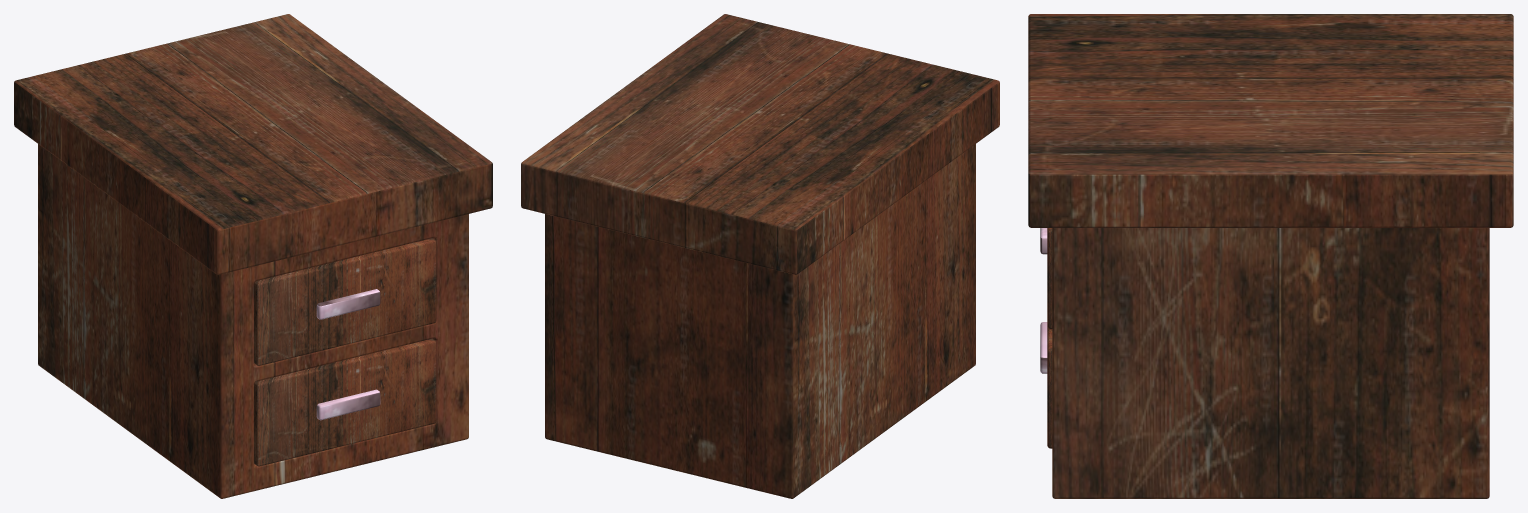
The model's file is Drawer.glb.
The picture shows the model from 3 angles, left to right: view 1: azimuth 30°, elevation 25°; view 2: azimuth 150°, elevation 25°; view 3: azimuth 270°, elevation 25°; orthographic projection. The views are drawn at different scales.
Parts seen in each view (by area): view 1: Table.001, Table.002, Table.006, Table.005, Table.004; view 2: Table.001; view 3: Table.001, Table.006, Table.002.
Boxes of the visible parts, x1=… form: Table.001: x1=14, y1=14, x2=492, y2=498; Table.002: x1=254, y1=238, x2=436, y2=365; Table.006: x1=254, y1=338, x2=436, y2=466; Table.005: x1=316, y1=389, x2=380, y2=420; Table.004: x1=316, y1=289, x2=380, y2=319; Table.001: x1=521, y1=14, x2=999, y2=498; Table.001: x1=1028, y1=14, x2=1513, y2=498; Table.006: x1=1047, y1=326, x2=1052, y2=448; Table.002: x1=1047, y1=228, x2=1052, y2=328.
Size of the model in its own units: 1.34 by 1.3 by 1.71.
Materials: 2 (2 with a texture image).
